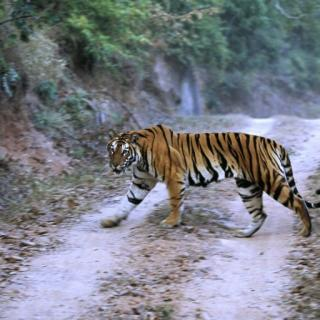Tiger: (94, 107, 320, 251)
